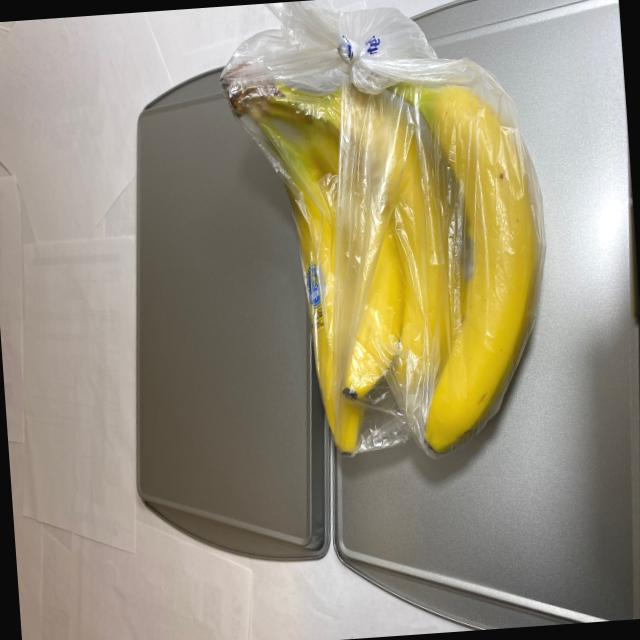banana: (218, 41, 557, 466)
